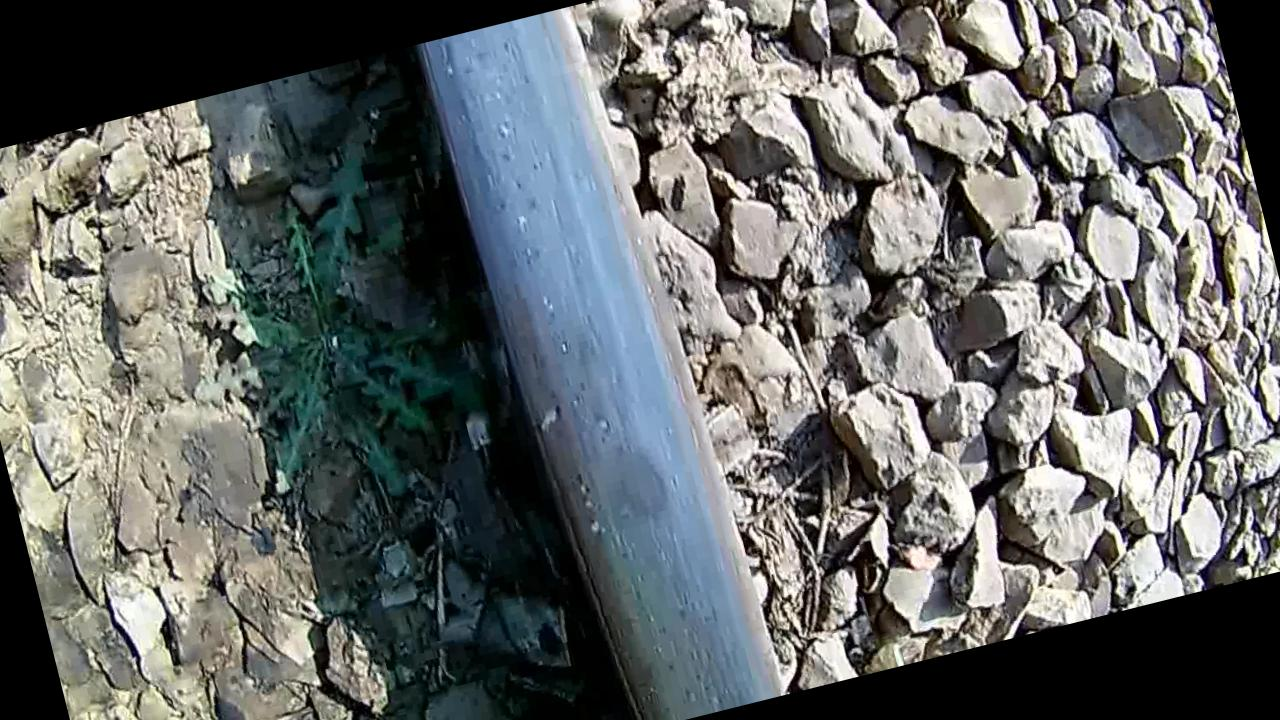bolt_missing: (499, 296, 713, 604)
